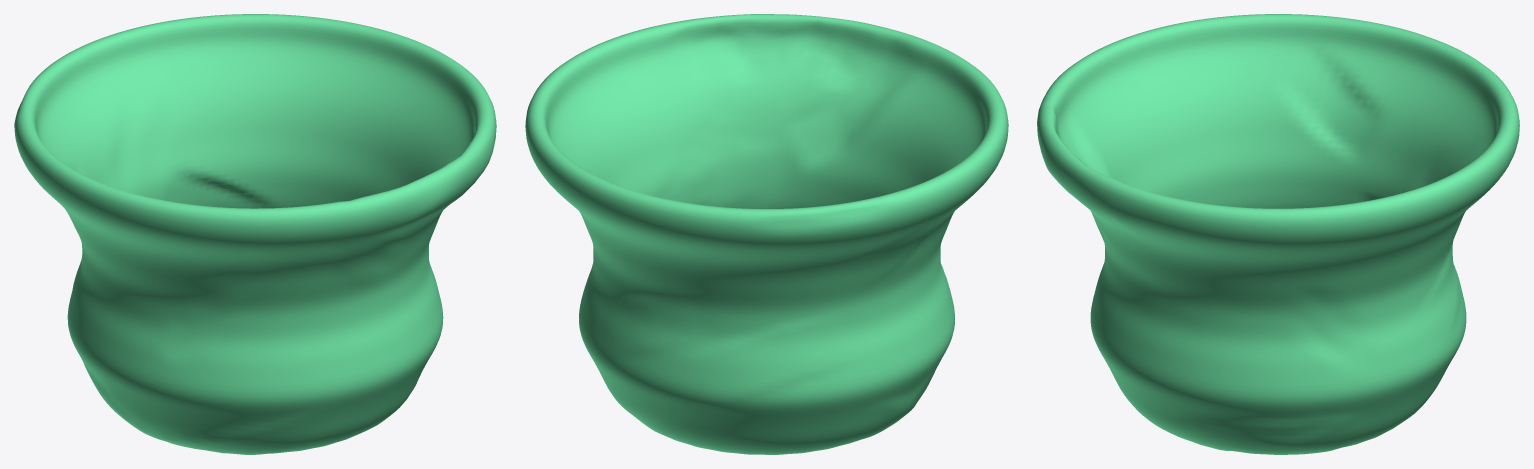
The model's file is ваза.fbx.
3 views of the same model, side by side, from view 1: azimuth 30°, elevation 25°; view 2: azimuth 150°, elevation 25°; view 3: azimuth 270°, elevation 25° (orthographic).
Visible parts, largest first — view 1: Цилиндр; view 2: Цилиндр; view 3: Цилиндр.
Part boxes in pixels (x1=…): Цилиндр: x1=14, y1=14, x2=496, y2=454; Цилиндр: x1=525, y1=14, x2=1008, y2=454; Цилиндр: x1=1037, y1=14, x2=1519, y2=454.
Size of the model in its own units: 168 by 115 by 168.
